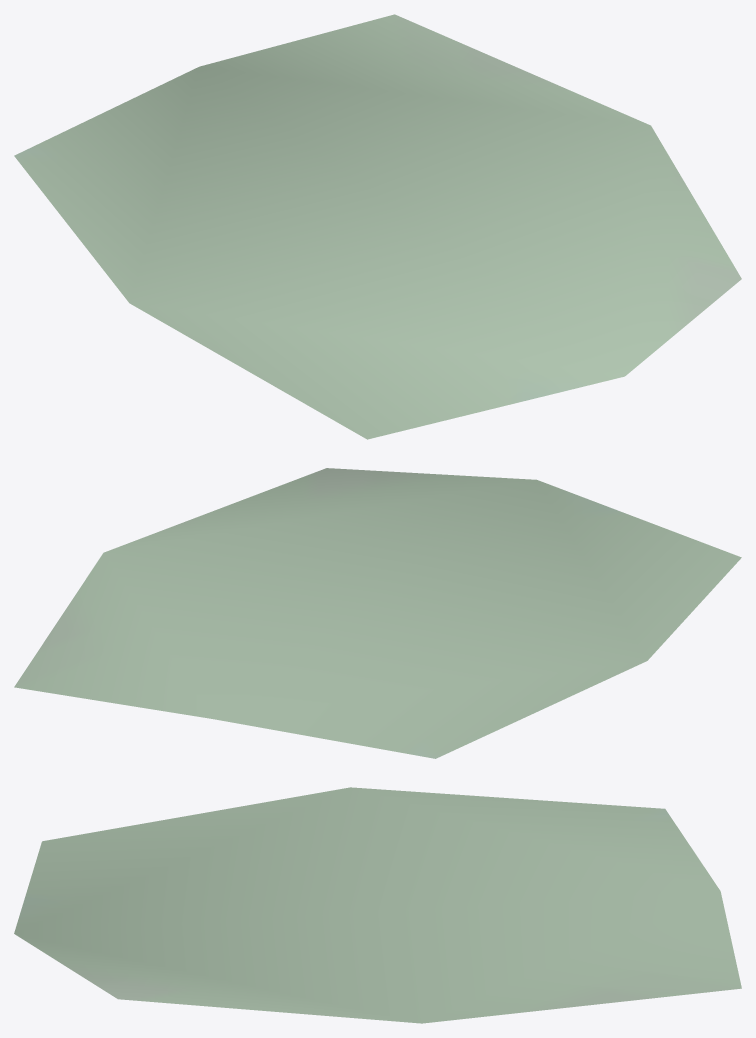
The model's file is TROLLHOLE02_HOLECAP213.fbx.
3 renders of one model, top to bottom at view 1: azimuth 30°, elevation 25°; view 2: azimuth 150°, elevation 25°; view 3: azimuth 270°, elevation 25°, orthographic. The views are drawn at different scales.
Visible parts, largest first — view 1: TROLLHOLE02_HOLECAP213; view 2: TROLLHOLE02_HOLECAP213; view 3: TROLLHOLE02_HOLECAP213.
Part boxes in pixels (x1=…): TROLLHOLE02_HOLECAP213: x1=14, y1=14, x2=741, y2=439; TROLLHOLE02_HOLECAP213: x1=14, y1=468, x2=741, y2=758; TROLLHOLE02_HOLECAP213: x1=14, y1=787, x2=741, y2=1023.
Bounding box in the file's own units: 11475 × 906 × 14306.
Materials: 1 (1 with a texture image).
